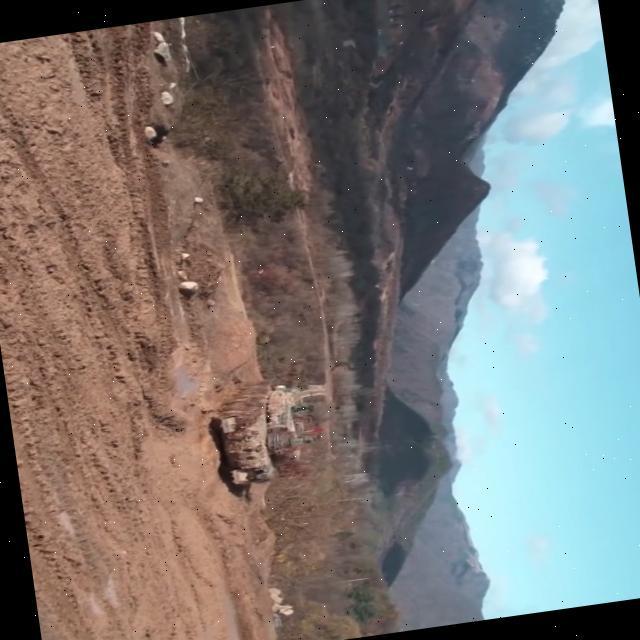korea tank: (200, 349, 332, 490)
